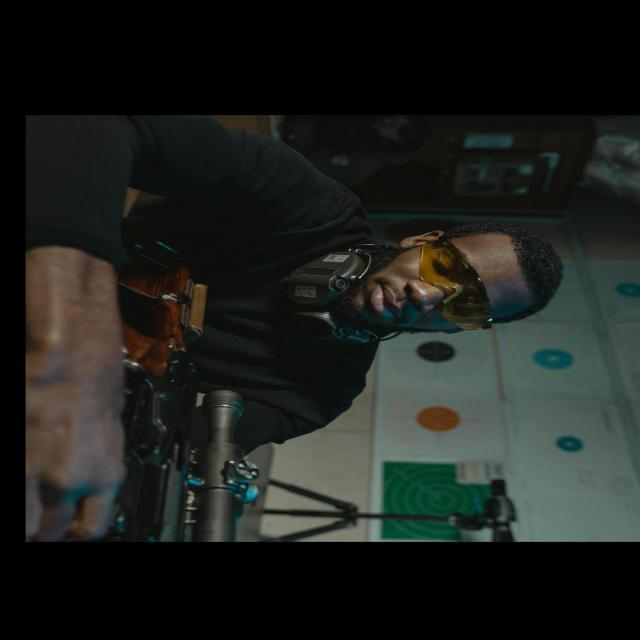weapon: (118, 223, 264, 541)
